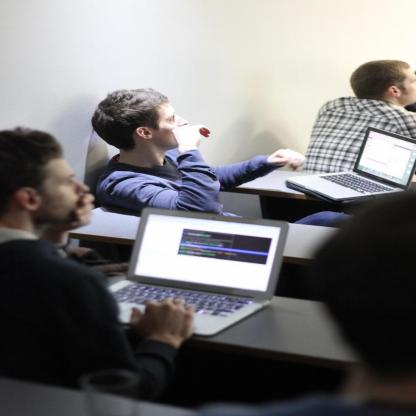board: (98, 214, 299, 350), (286, 128, 416, 204)
